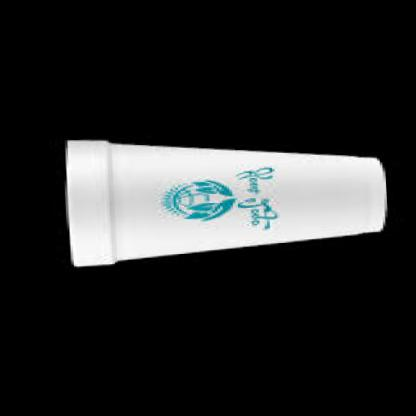Plastic: (39, 124, 391, 276)
